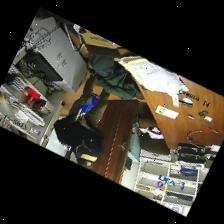person: (54, 74, 109, 168), (89, 53, 144, 99)
